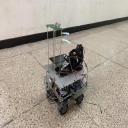cart: (42, 62, 90, 116)
